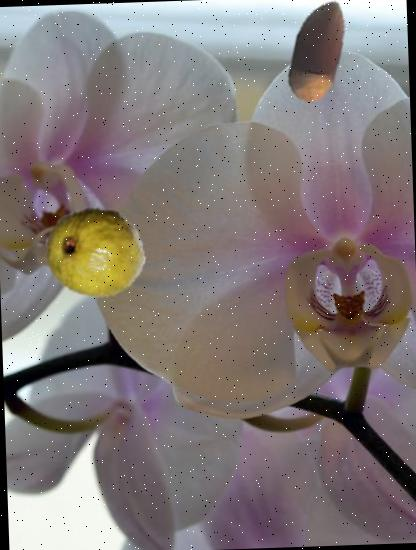Guava: (43, 200, 148, 305)
Hazelnut: (261, 0, 374, 108)
